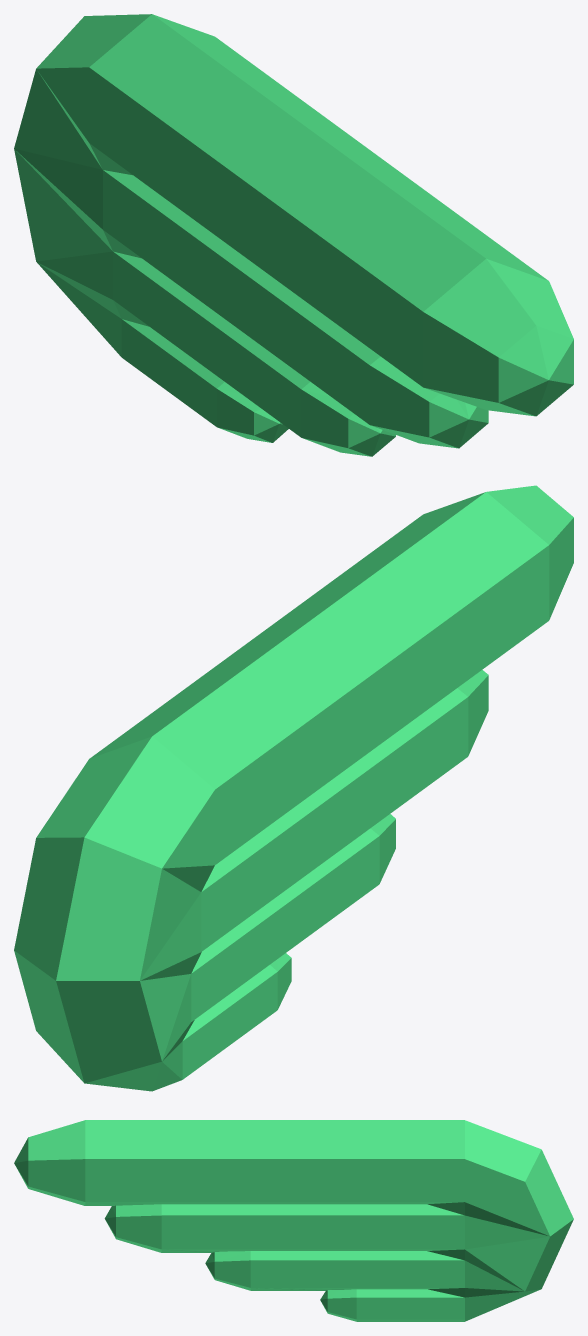
The model's file is Fing.FBX.
3 renders of one model, top to bottom at view 1: azimuth 30°, elevation 25°; view 2: azimuth 150°, elevation 25°; view 3: azimuth 270°, elevation 25°, orthographic. The views are drawn at different scales.
Visible parts, largest first — view 1: VIFS001; view 2: VIFS001; view 3: VIFS001.
Part boxes in pixels (x1,y1,x2,y2): VIFS001: [14, 14, 573, 456]; VIFS001: [14, 485, 573, 1091]; VIFS001: [14, 1120, 573, 1321].
Bounding box in the file's own units: 0.174 × 0.469 × 1.18.
